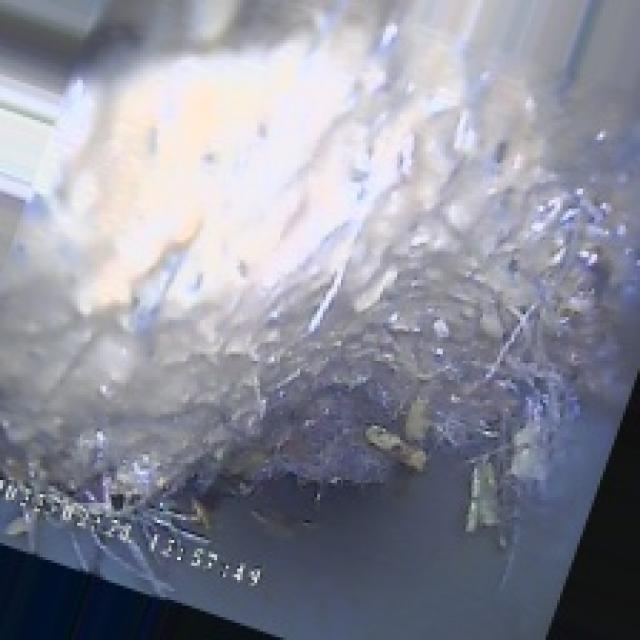sluge accumulation: (66, 89, 580, 494)
